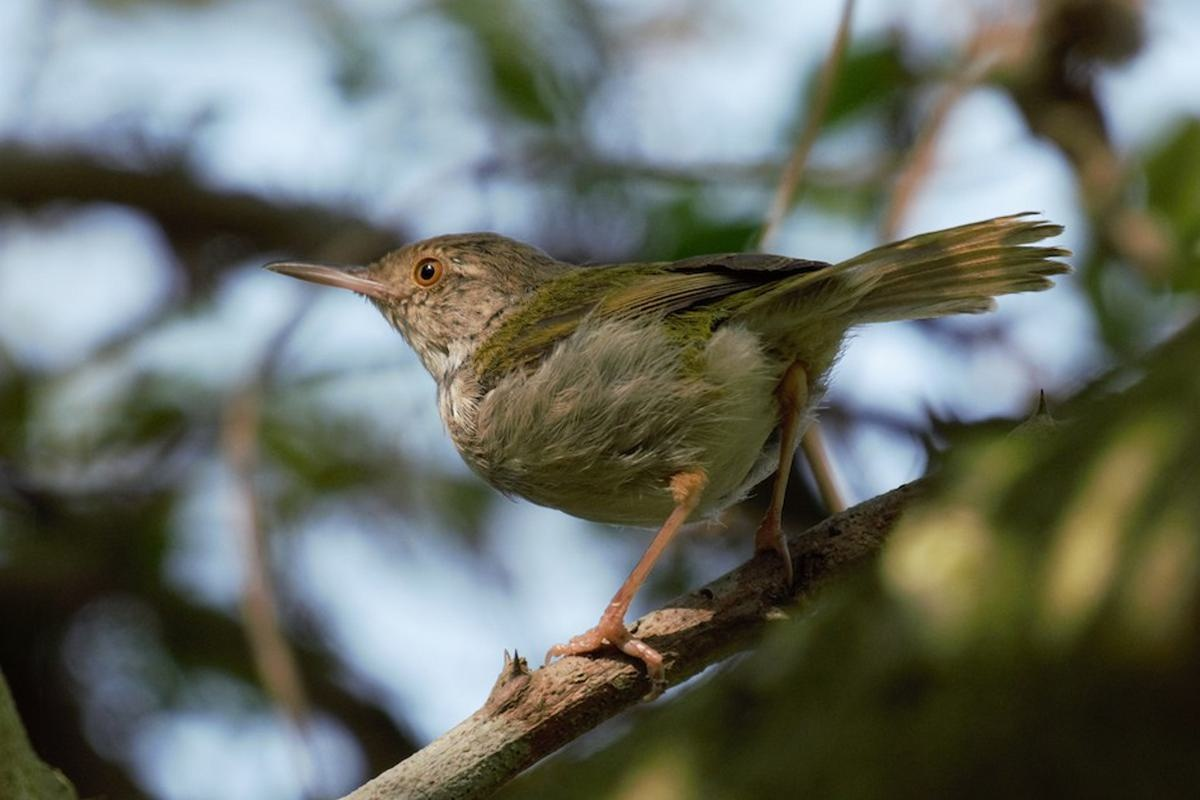tailorbird: (246, 147, 1056, 653)
